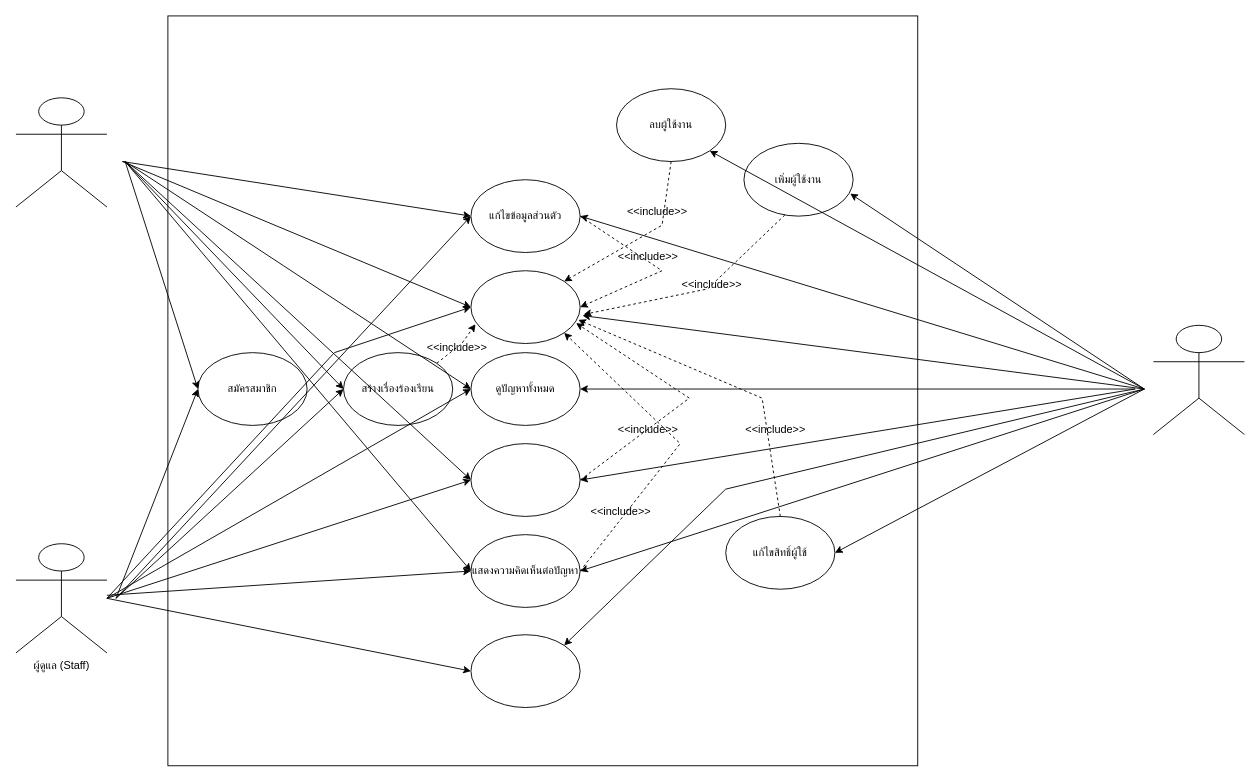
This 1260x782 diagram has some shape labels left out. Here are the shapes that lost their labels. From the top down, the centre of each, then its label:
At (61,152): "ผู้ใช้ (User)".
At (525,307): "เข้าสู้ระบบ".
At (1198,379): "ผู้ดูแลระบบ(Admin )".
At (525,479): "ติดตามปัญหา".
At (525,671): "ลบปัญหาออกจากระบบ".
